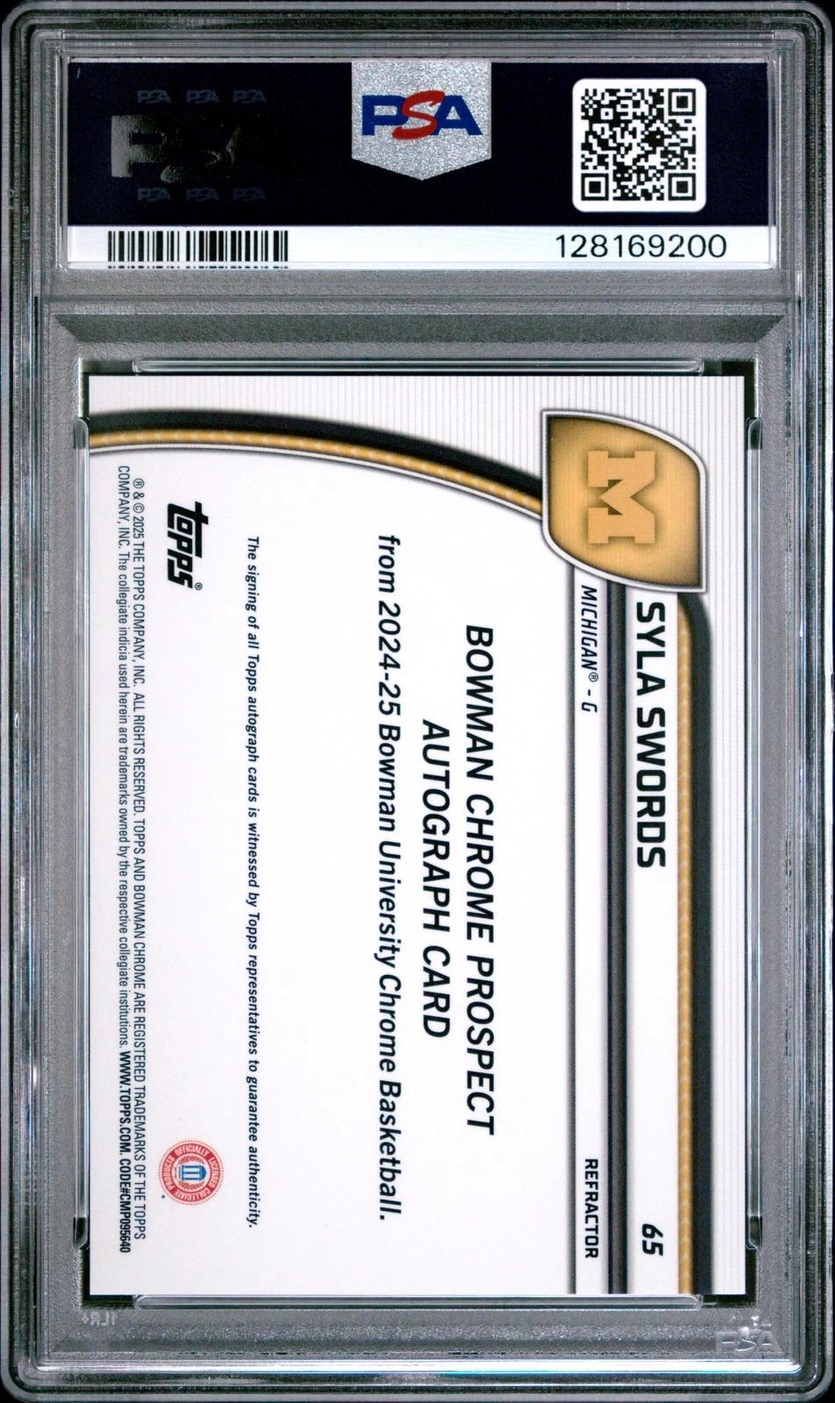card-2UtV: (88, 374, 747, 1296)
